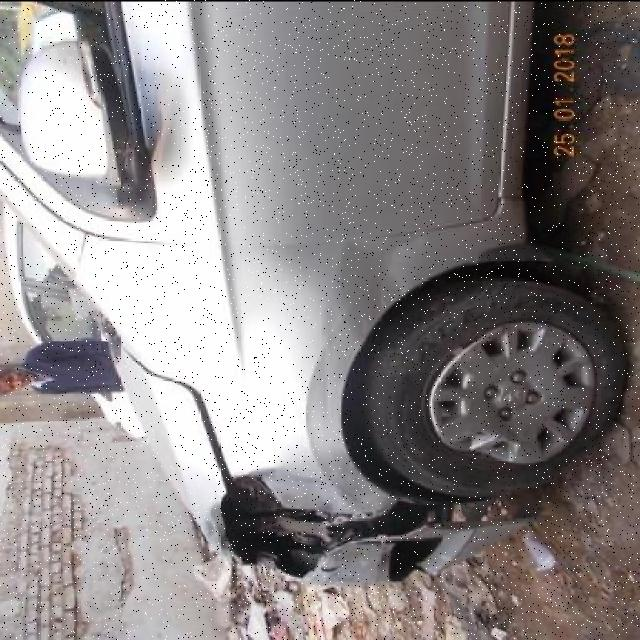damage: (212, 458, 436, 582), (312, 232, 429, 369)
